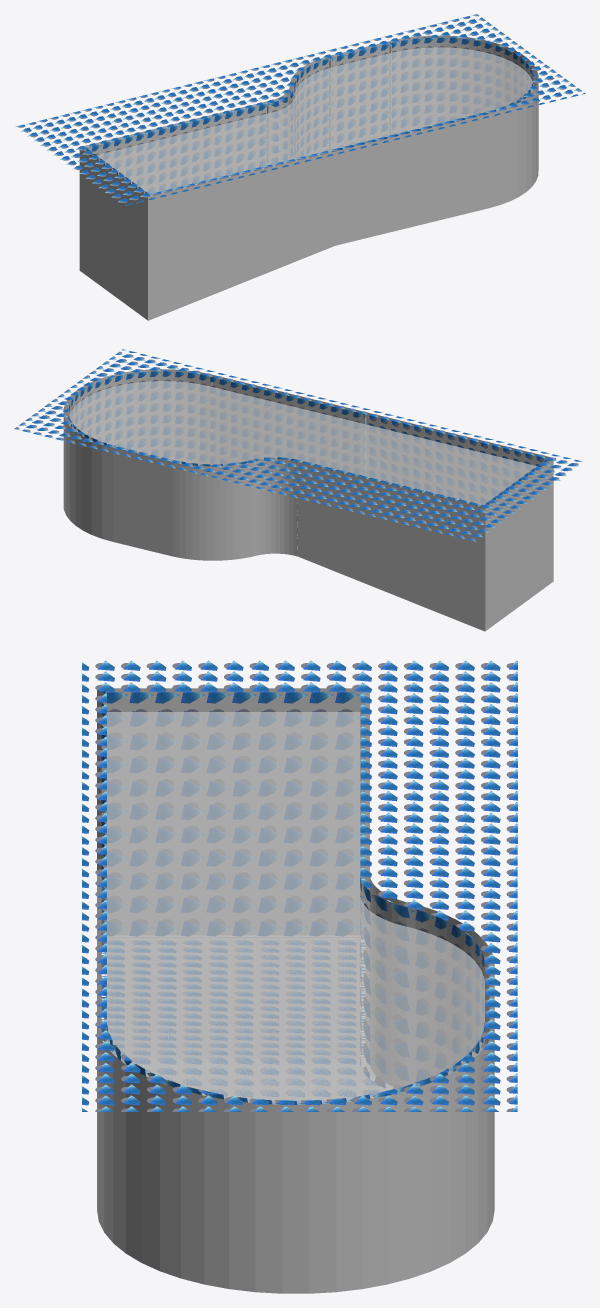
The model's file is swimmingPool.obj.
3 renders of one model, top to bottom at view 1: azimuth 30°, elevation 25°; view 2: azimuth 150°, elevation 25°; view 3: azimuth 270°, elevation 25°, orthographic. The views are drawn at different scales.
Parts seen in each view (by area): view 1: room_1_49_49_49_49_49, wall_6_32_32_32_32_32, wall_5_27_27_27_27_27, room_1_1_1_51_50_50_1_1.004, wall_1_2_2_2_2_2, wall_6_33_33_33_33_33, wall_4_20_20_20_20_20, wall_1_5_5_5_5_5, wall_4_23_23_23_23_23, wall_2_8_8_8_8_8, wall_2_11_11_11_11_11, wall_3_14_14_14_14_14 (+3 smaller); view 2: room_1_49_49_49_49_49, wall_4_20_20_20_20_20, room_1_1_1_51_50_50_1_1.004, wall_1_2_2_2_2_2, wall_6_33_33_33_33_33, wall_3_14_14_14_14_14, wall_5_27_27_27_27_27, wall_2_8_8_8_8_8, wall_6_32_32_32_32_32, wall_7_41_41_41_41_41, wall_1_5_5_5_5_5, wall_8_44_44_44_44_44; view 3: room_1_49_49_49_49_49, wall_1_2_2_2_2_2, room_1_1_1_51_50_50_1_1.004, wall_6_33_33_33_33_33, wall_5_29_29_29_29_29, room_1_1_1_52_51_51.001, room_1_1_1_52_51_51, wall_3_14_14_14_14_14, wall_8_44_44_44_44_44, wall_3_17_17_17_17_17, room_2_2_2_53_52_52, wall_8_47_47_47_47_47 (+2 smaller).
Boxes of the visible parts, x1=… form: room_1_49_49_49_49_49: x1=97, y1=47, x2=533, y2=196; wall_6_32_32_32_32_32: x1=148, y1=151, x2=335, y2=320; wall_5_27_27_27_27_27: x1=335, y1=113, x2=488, y2=245; room_1_1_1_51_50_50_1_1.004: x1=15, y1=14, x2=585, y2=205; wall_1_2_2_2_2_2: x1=390, y1=35, x2=538, y2=207; wall_6_33_33_33_33_33: x1=79, y1=150, x2=147, y2=320; wall_4_20_20_20_20_20: x1=84, y1=101, x2=268, y2=195; wall_1_5_5_5_5_5: x1=392, y1=37, x2=533, y2=134; wall_4_23_23_23_23_23: x1=86, y1=104, x2=269, y2=195; wall_2_8_8_8_8_8: x1=329, y1=41, x2=390, y2=149; wall_2_11_11_11_11_11: x1=330, y1=43, x2=391, y2=149; wall_3_14_14_14_14_14: x1=289, y1=58, x2=329, y2=160; room_1_49_49_49_49_49: x1=68, y1=381, x2=536, y2=506; wall_4_20_20_20_20_20: x1=298, y1=462, x2=485, y2=631; room_1_1_1_51_50_50_1_1.004: x1=14, y1=349, x2=582, y2=541; wall_1_2_2_2_2_2: x1=63, y1=369, x2=211, y2=541; wall_6_33_33_33_33_33: x1=485, y1=461, x2=553, y2=630; wall_3_14_14_14_14_14: x1=173, y1=463, x2=252, y2=560; wall_5_27_27_27_27_27: x1=211, y1=374, x2=366, y2=489; wall_2_8_8_8_8_8: x1=113, y1=447, x2=173, y2=556; wall_6_32_32_32_32_32: x1=365, y1=412, x2=551, y2=505; wall_7_41_41_41_41_41: x1=210, y1=376, x2=362, y2=474; wall_1_5_5_5_5_5: x1=68, y1=371, x2=209, y2=461; wall_8_44_44_44_44_44: x1=252, y1=459, x2=297, y2=556; room_1_49_49_49_49_49: x1=106, y1=712, x2=484, y2=1104; wall_1_2_2_2_2_2: x1=97, y1=1027, x2=494, y2=1293; room_1_1_1_51_50_50_1_1.004: x1=82, y1=660, x2=517, y2=1111; wall_6_33_33_33_33_33: x1=97, y1=688, x2=369, y2=934; wall_5_29_29_29_29_29: x1=101, y1=691, x2=363, y2=936; room_1_1_1_52_51_51.001: x1=107, y1=938, x2=360, y2=1058; room_1_1_1_52_51_51: x1=107, y1=939, x2=355, y2=1058; wall_3_14_14_14_14_14: x1=415, y1=906, x2=492, y2=1084; wall_8_44_44_44_44_44: x1=369, y1=877, x2=415, y2=1086; wall_3_17_17_17_17_17: x1=410, y1=908, x2=484, y2=1081; room_2_2_2_53_52_52: x1=132, y1=1059, x2=388, y2=1100; wall_8_47_47_47_47_47: x1=360, y1=877, x2=409, y2=1089.
Size of the model in its own units: 832 by 213 by 339.
